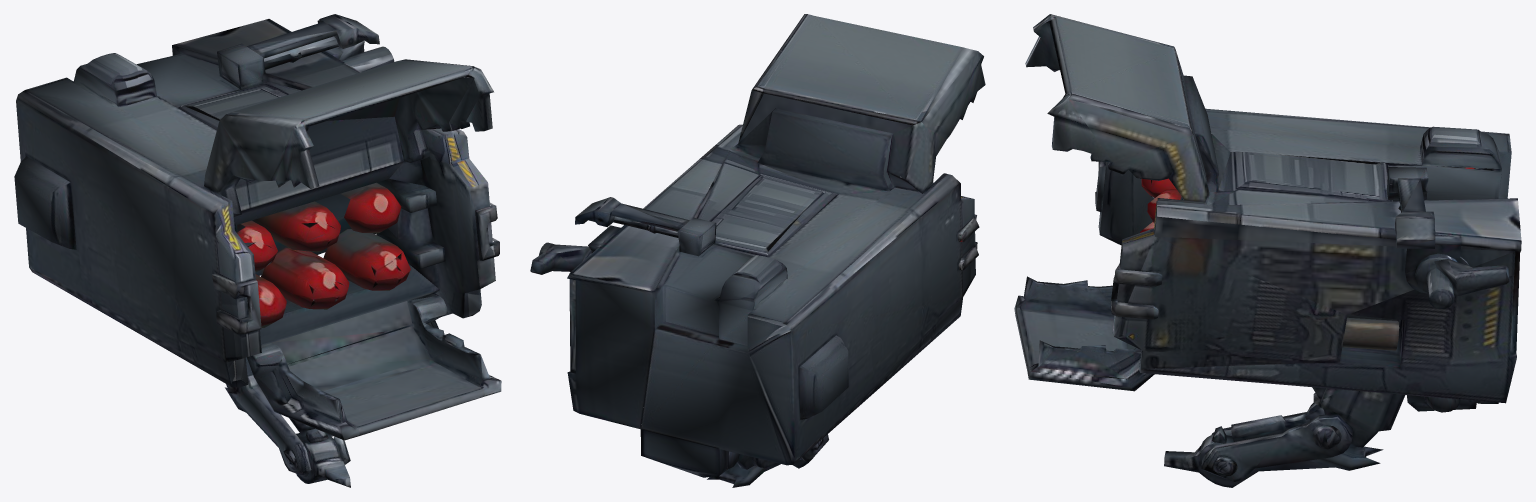
The picture shows the model from 3 angles, left to right: view 1: azimuth 30°, elevation 25°; view 2: azimuth 150°, elevation 25°; view 3: azimuth 270°, elevation 25°; orthographic projection. The views are drawn at different scales.
Parts seen in each view (by area): view 1: gun; view 2: gun; view 3: gun.
Part boxes in pixels (x1,y1,x2,y2): gun: (14,14,501,487); gun: (530,14,985,487); gun: (1014,14,1521,487).
Size of the model in its own units: 0.8859 by 1.1 by 1.2.
Materials: 1 (1 with a texture image).
